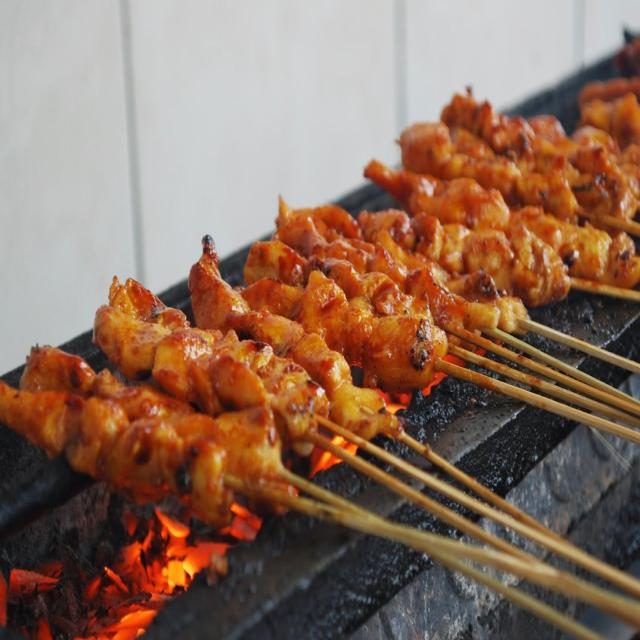Sate: (48, 118, 618, 620)
